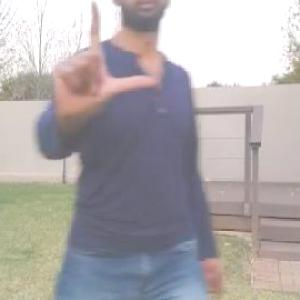land_hand: (45, 0, 164, 124)
